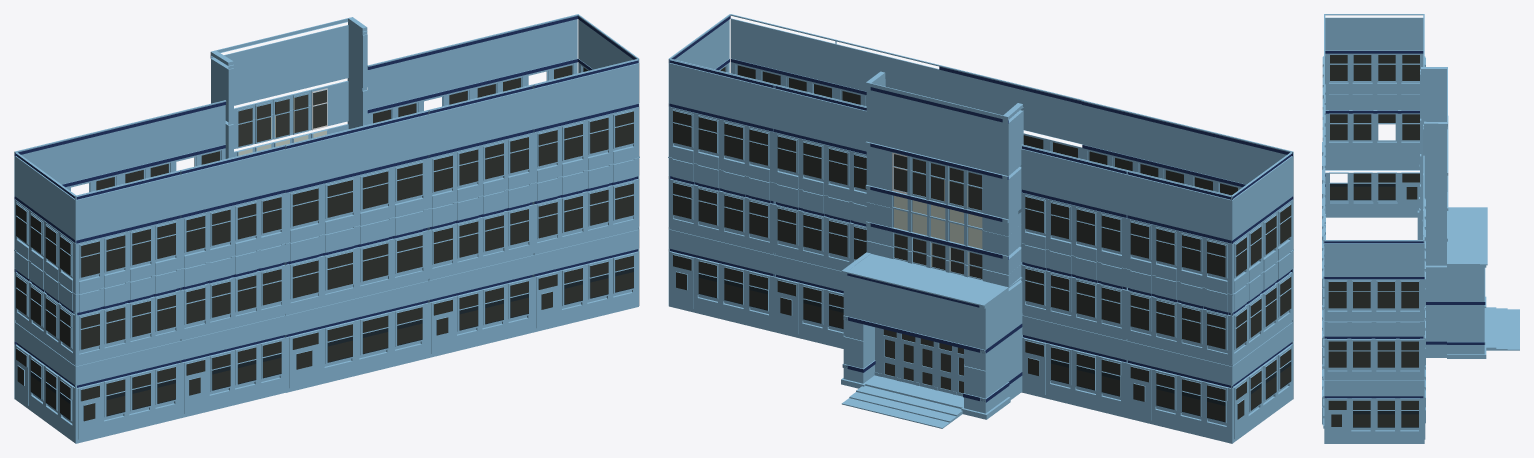
The model's file is SchoolBuilding.fbx.
The picture shows the model from 3 angles, left to right: view 1: azimuth 30°, elevation 25°; view 2: azimuth 150°, elevation 25°; view 3: azimuth 270°, elevation 25°; orthographic projection. The views are drawn at different scales.
Parts seen in each view (by area): view 1: Plane.019, Plane.016, Plane.021, Plane.018, Plane.020, Plane, Plane.015, Plane.004, Plane.013, Plane.012, Plane.014, Plane.022; view 2: Plane, Plane.014, Plane.013, Plane.004, Plane.012, Plane.015, Plane.018, Plane.019, Plane.021, Plane.016, Plane.020, Plane.022; view 3: Plane.022, Plane.015, Plane, Plane.021, Plane.004, Plane.016, Plane.019, Plane.018, Plane.020.
Part boxes in pixels (<box>): Plane.019: <box>284,110,430,392</box>; Plane.016: <box>74,170,181,443</box>; Plane.021: <box>532,59,639,332</box>; Plane.018: <box>180,144,286,418</box>; Plane.020: <box>427,84,534,357</box>; Plane: <box>210,17,367,158</box>; Plane.015: <box>14,151,77,443</box>; Plane.004: <box>472,14,577,98</box>; Plane.013: <box>120,100,226,184</box>; Plane.012: <box>367,40,472,124</box>; Plane.014: <box>14,126,120,398</box>; Plane.022: <box>577,14,639,305</box>; Plane: <box>841,71,1023,428</box>; Plane.014: <box>1126,170,1233,443</box>; Plane.013: <box>1021,144,1127,417</box>; Plane.004: <box>669,58,775,331</box>; Plane.012: <box>773,84,866,348</box>; Plane.015: <box>1230,152,1293,443</box>; Plane.018: <box>1081,100,1187,184</box>; Plane.019: <box>939,65,1083,158</box>; Plane.021: <box>730,14,836,98</box>; Plane.016: <box>1187,126,1293,398</box>; Plane.020: <box>835,39,941,106</box>; Plane.022: <box>668,14,730,305</box>; Plane.022: <box>1324,240,1424,443</box>; Plane.015: <box>1324,14,1424,217</box>; Plane: <box>1417,67,1519,358</box>; Plane.021: <box>1322,198,1324,428</box>; Plane.004: <box>1423,197,1425,439</box>; Plane.016: <box>1322,14,1325,239</box>; Plane.019: <box>1322,98,1324,223</box>; Plane.018: <box>1322,56,1325,227</box>; Plane.020: <box>1322,155,1324,267</box>.
Bounding box in the file's own units: 695 × 336 × 256.
